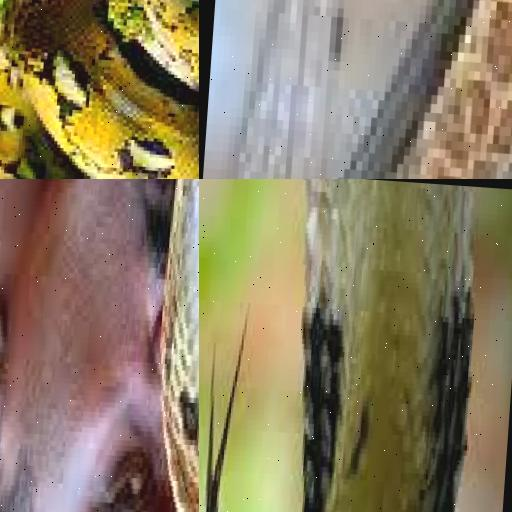1: (121, 179, 199, 512)
3: (0, 0, 199, 179)
5: (199, 179, 494, 512)
snake: (300, 0, 512, 179)
